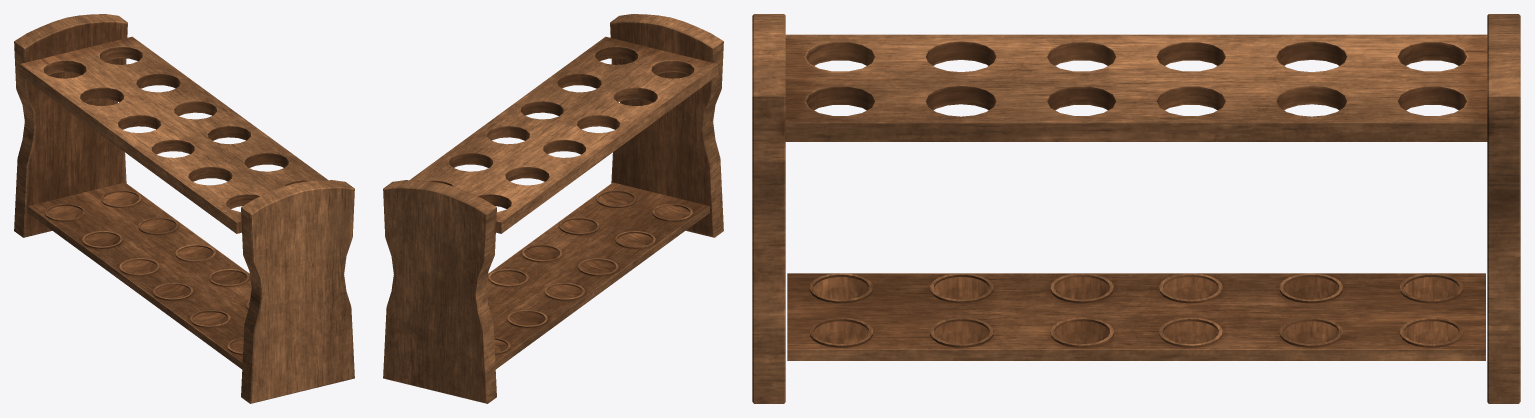
Rendered from test_tube_rack.fbx.
3 renders of one model, left to right at view 1: azimuth 30°, elevation 25°; view 2: azimuth 150°, elevation 25°; view 3: azimuth 270°, elevation 25°, orthographic. The views are drawn at different scales.
Parts seen in each view (by area): view 1: test_tube_rack; view 2: test_tube_rack; view 3: test_tube_rack.
Boxes of the visible parts, x1,y1,x2,y2 form: test_tube_rack: [14, 14, 354, 403]; test_tube_rack: [383, 14, 723, 403]; test_tube_rack: [752, 14, 1520, 403].
Size of the model in its own units: 1.14 by 1.95 by 4.18.
